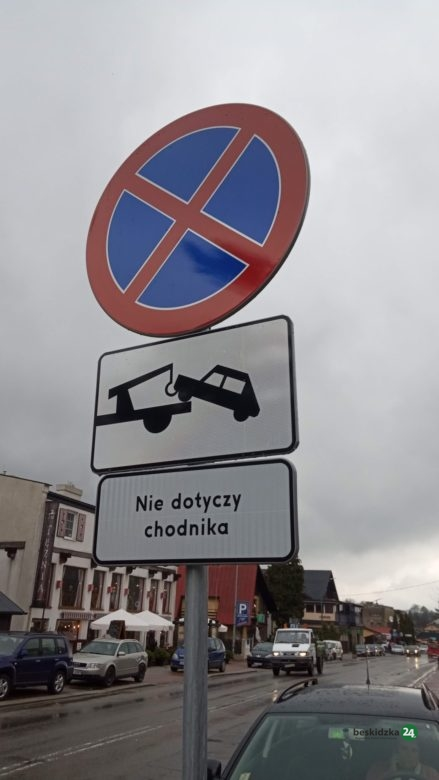no_stopping_sign: (86, 104, 314, 336)
